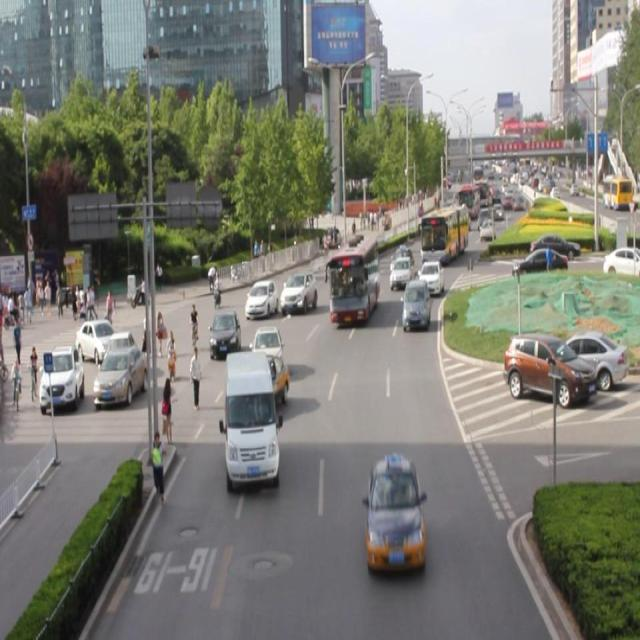car: (366, 455, 423, 569), (245, 354, 288, 406), (250, 324, 282, 379), (210, 308, 241, 358), (280, 271, 316, 314), (402, 276, 429, 331), (244, 279, 278, 317), (417, 258, 443, 295), (388, 255, 412, 288)
truck: (225, 348, 277, 484)
van: (328, 230, 376, 322)
